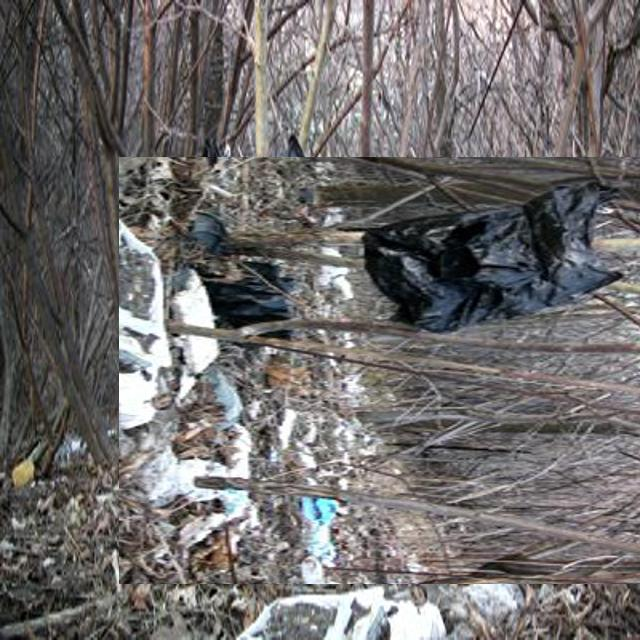garbage: (147, 128, 630, 612)
